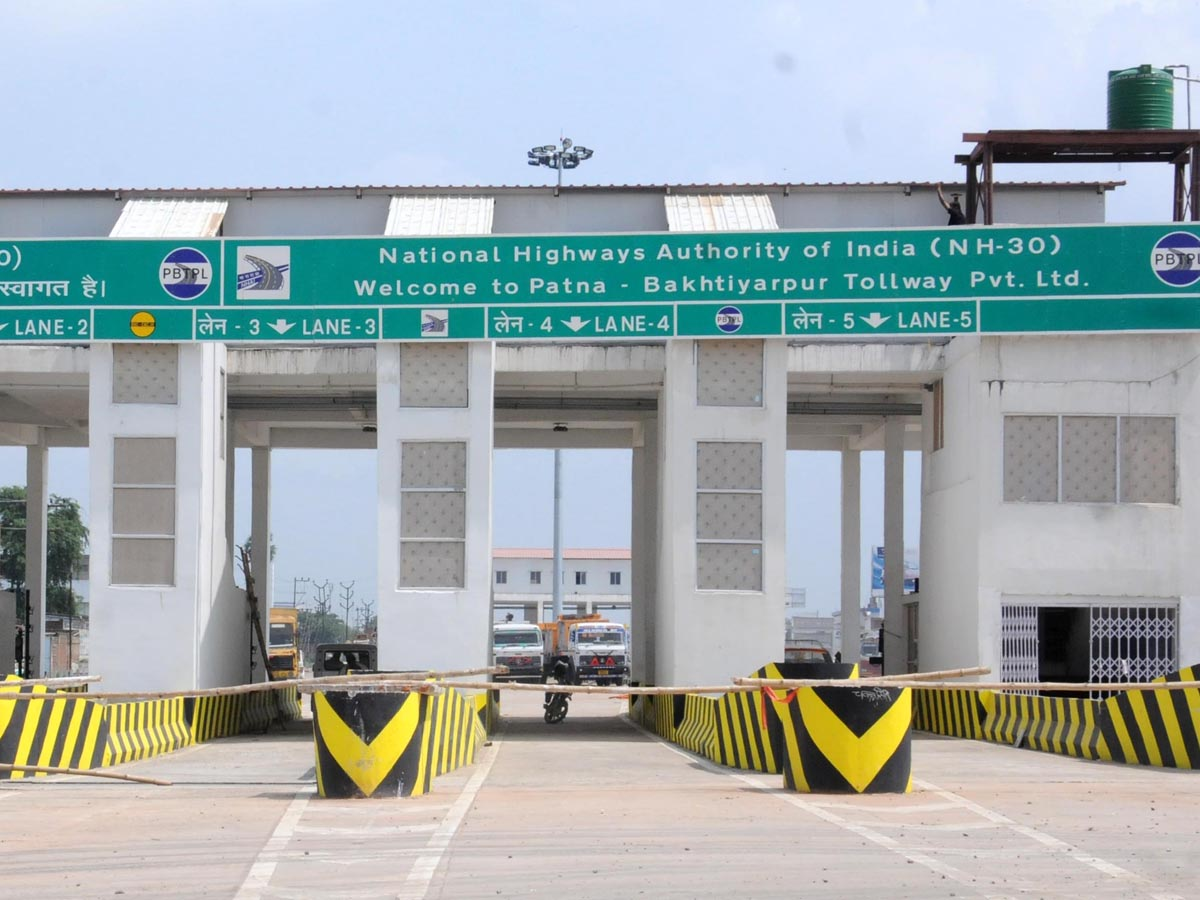toll plaza: (23, 166, 1200, 785)
